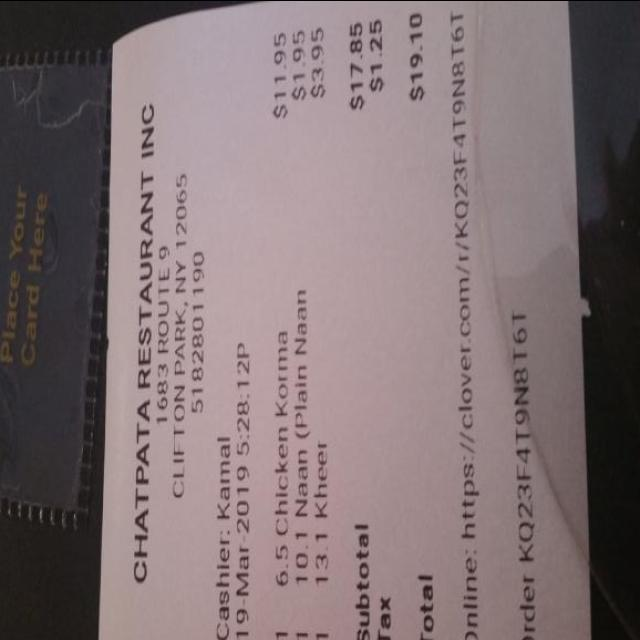kertas: (83, 0, 589, 640)
